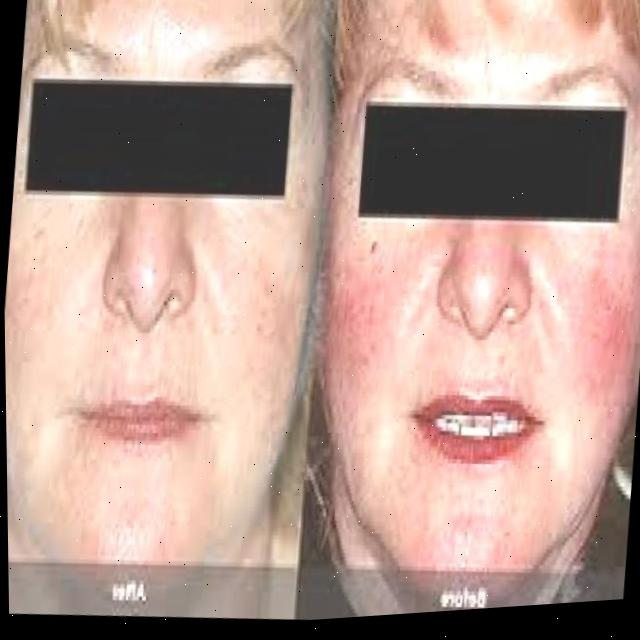Rosacea: (572, 263, 636, 428), (422, 506, 517, 565), (335, 271, 399, 350)
